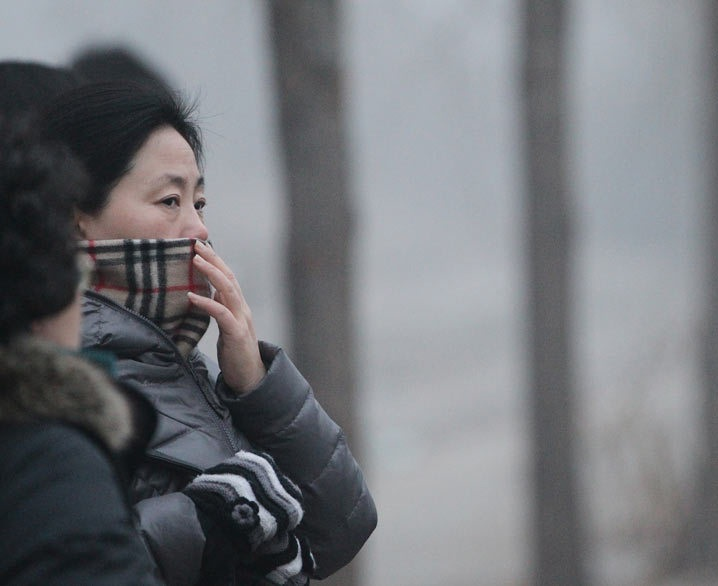face_mask: (82, 122, 212, 334)
